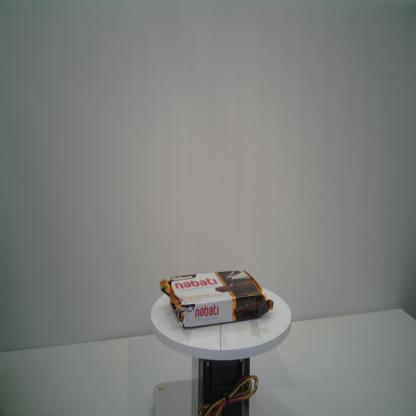Dessert: (158, 268, 275, 331)
